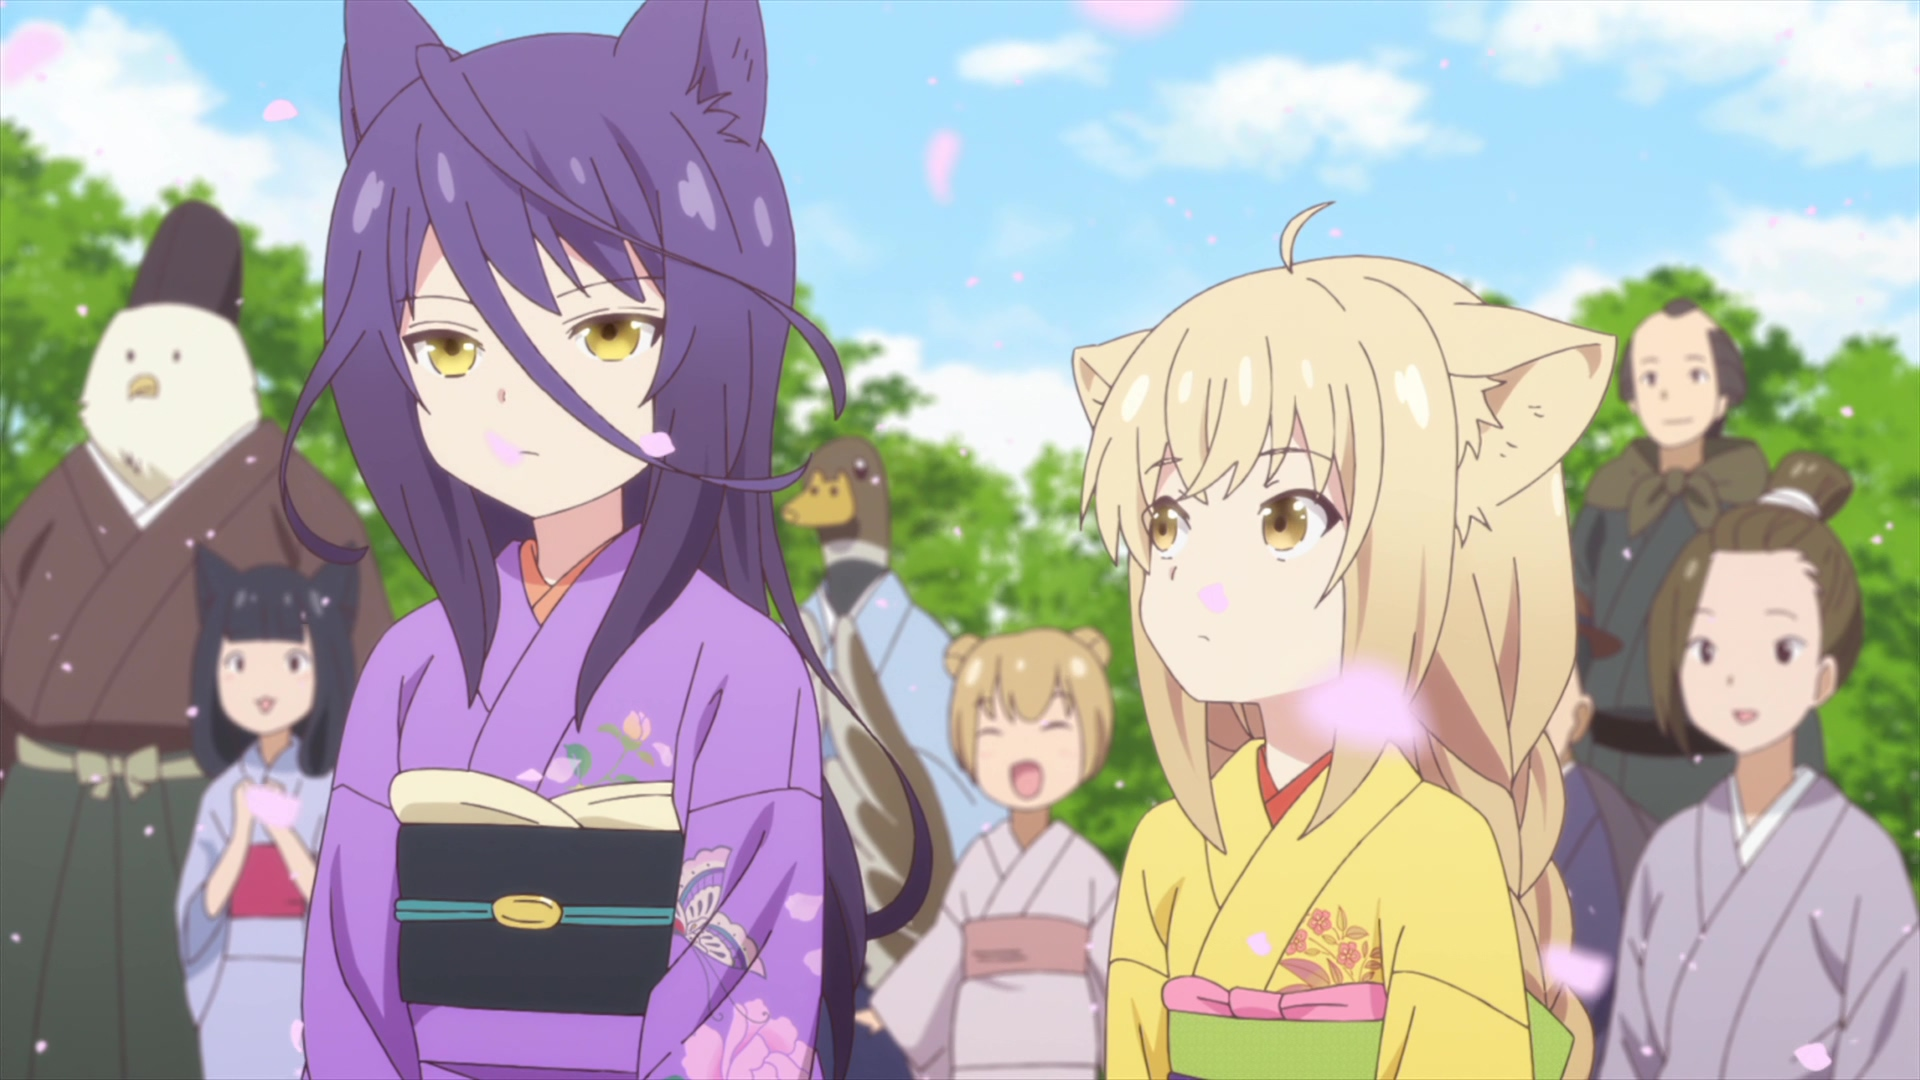其他: (1, 200, 392, 1080), (1596, 454, 1920, 1080), (785, 435, 1007, 1080), (1573, 301, 1828, 837), (855, 622, 1116, 1080), (175, 543, 365, 1080)
柚: (1073, 204, 1618, 1080)
皋: (299, 1, 928, 1080)
